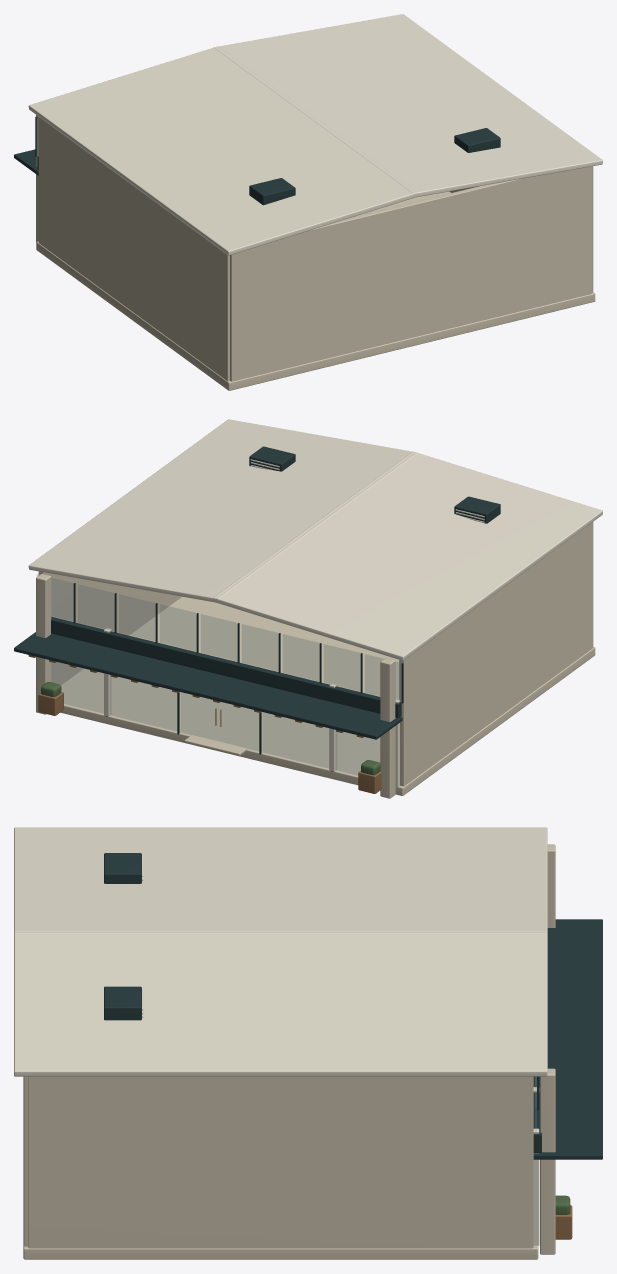
The model's file is pavilionMarket.glb.
3 views of the same model, one above another, from view 1: azimuth 30°, elevation 25°; view 2: azimuth 150°, elevation 25°; view 3: azimuth 270°, elevation 25° (orthographic). The views are drawn at different scales.
Visible parts, largest first — view 1: Limestone, Ivory trim, Dark metal; view 2: Ivory trim, Limestone, Clear storefront glazing, Dark metal, Cedar timber, Planter leaves; view 3: Ivory trim, Limestone, Dark metal.
Part boxes in pixels (box(x1,y1,x2,y2)): Limestone: box(36, 115, 595, 390); Ivory trim: box(28, 14, 602, 255); Dark metal: box(14, 116, 500, 205); Ivory trim: box(28, 419, 602, 787); Limestone: box(36, 522, 595, 798); Clear storefront glazing: box(37, 574, 401, 775); Dark metal: box(14, 446, 500, 771); Cedar timber: box(28, 655, 381, 793); Planter leaves: box(41, 682, 380, 775); Ivory trim: box(14, 827, 547, 1245); Limestone: box(23, 844, 555, 1259); Dark metal: box(104, 853, 602, 1159).
Size of the model in its own units: 18.29 by 7.36 by 18.65.
